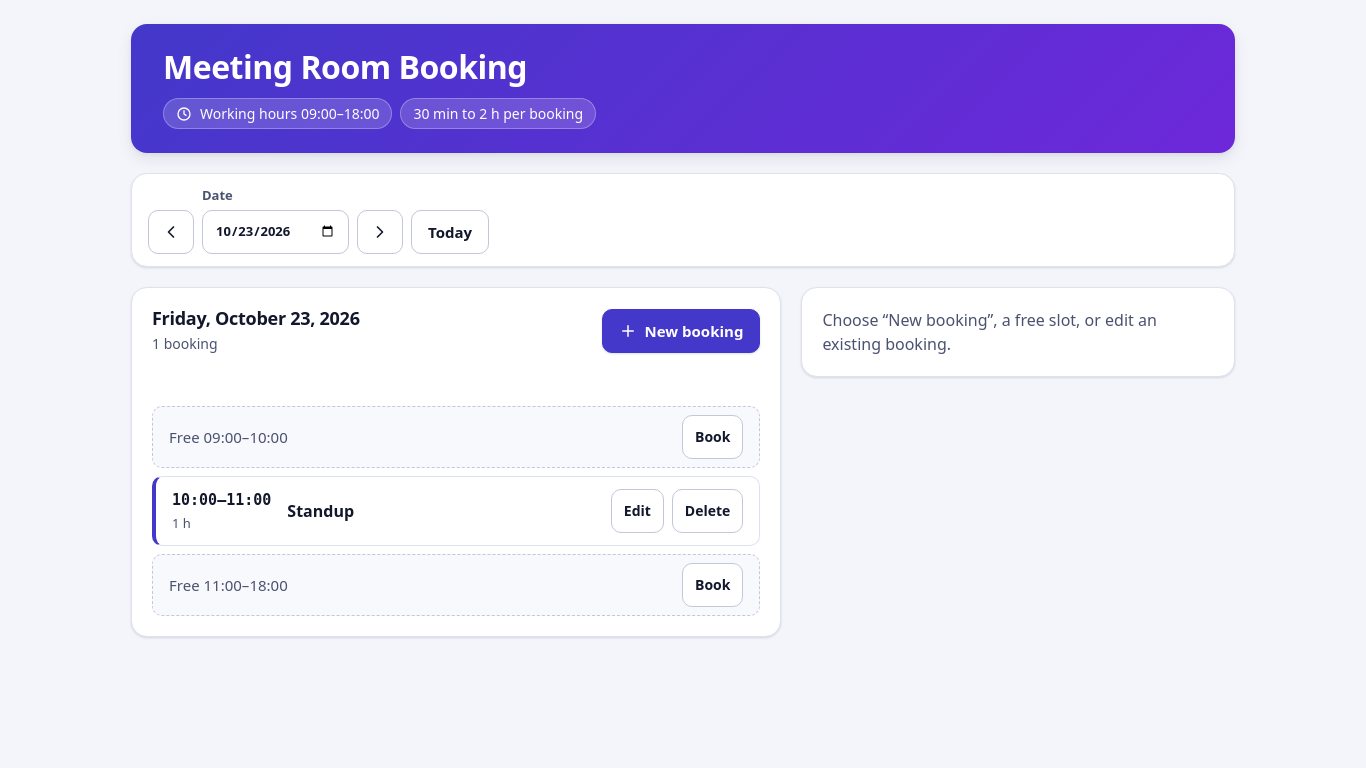
deleting › asks for confirmation, then removes the booking
Click the button with aria-label "Delete booking 10:00–11:00" at (708, 512), box [672, 490, 743, 534]
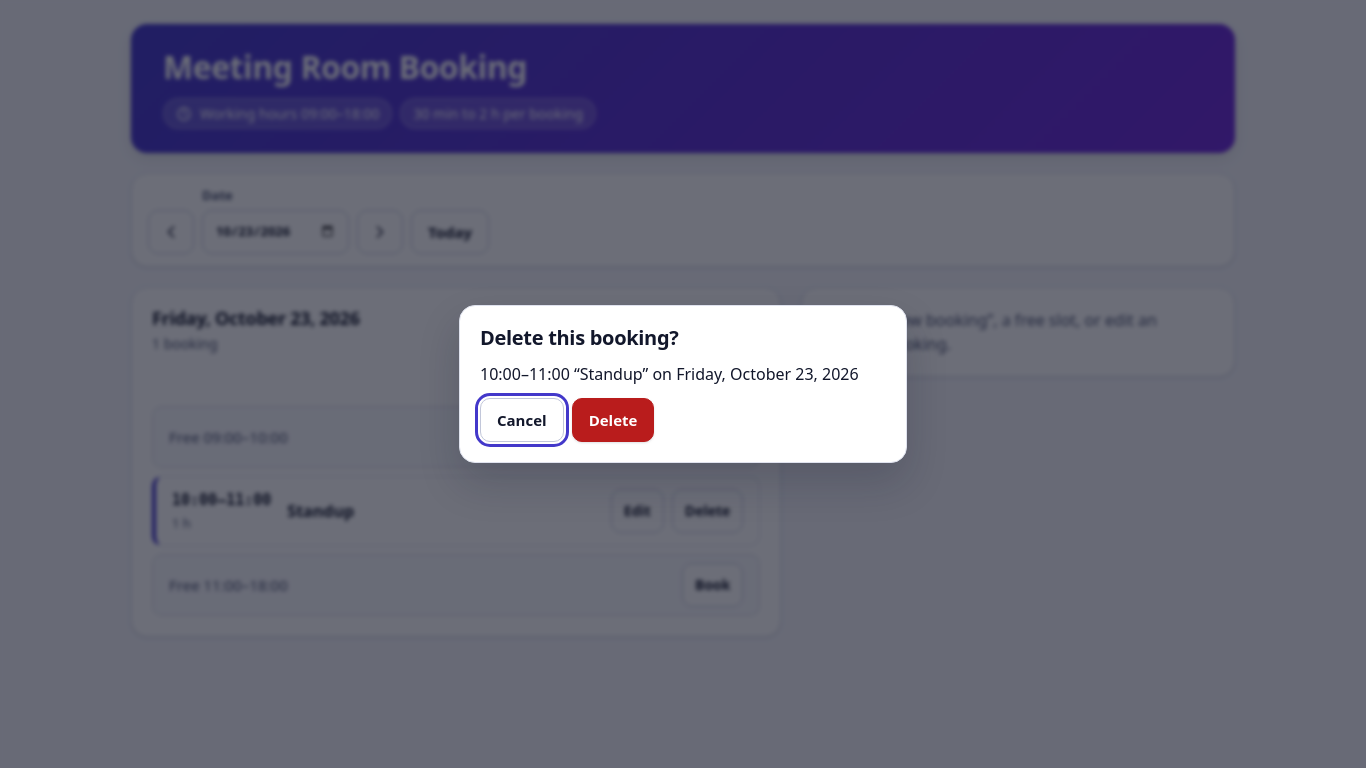
expect the text "10:00–11:00 “Standup” on Friday, October 23, 2026" is shown: met, box [480, 362, 886, 386]
Click the button "Delete" at (613, 420), box [572, 398, 654, 442]
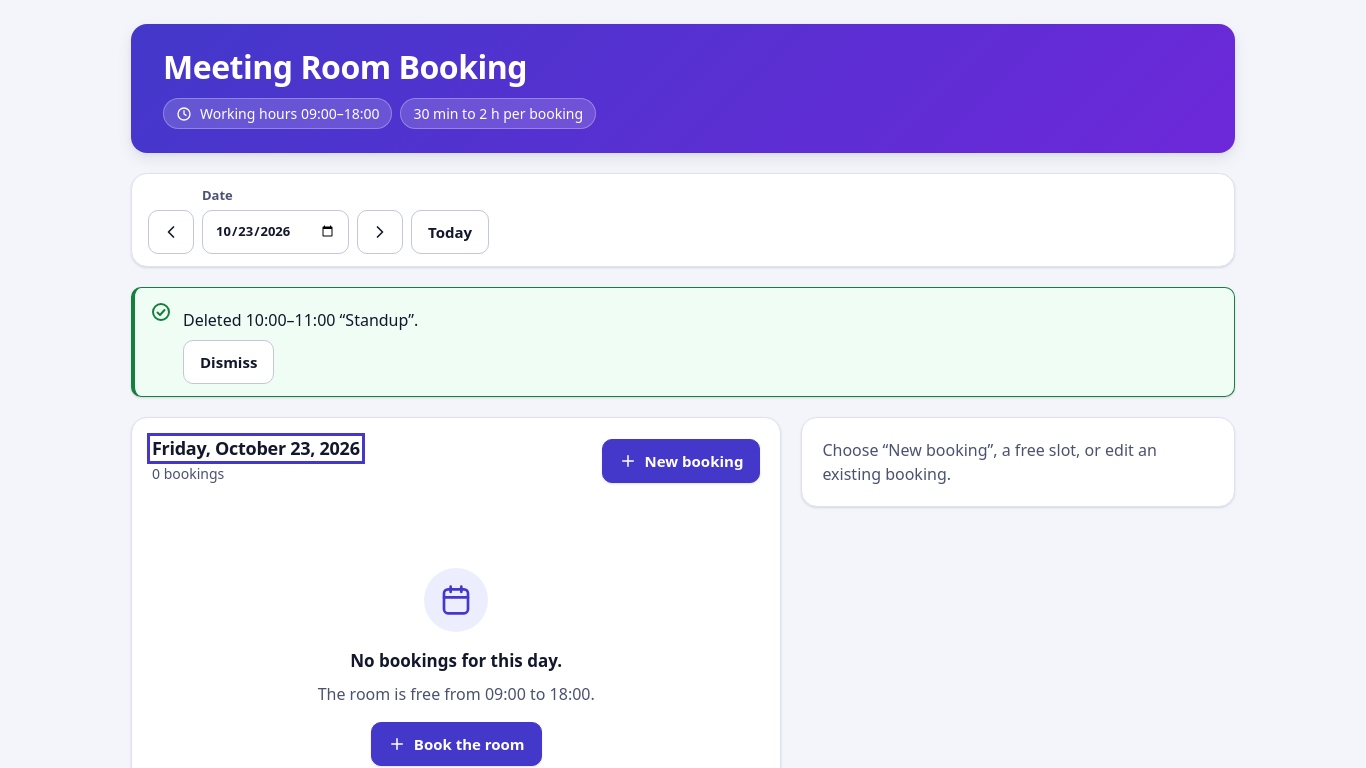
expect the text "Deleted 10:00–11:00 “Standup”." is shown: met, box [183, 309, 418, 331]
expect the text "No bookings for this day." is shown: met, box [350, 648, 562, 674]
